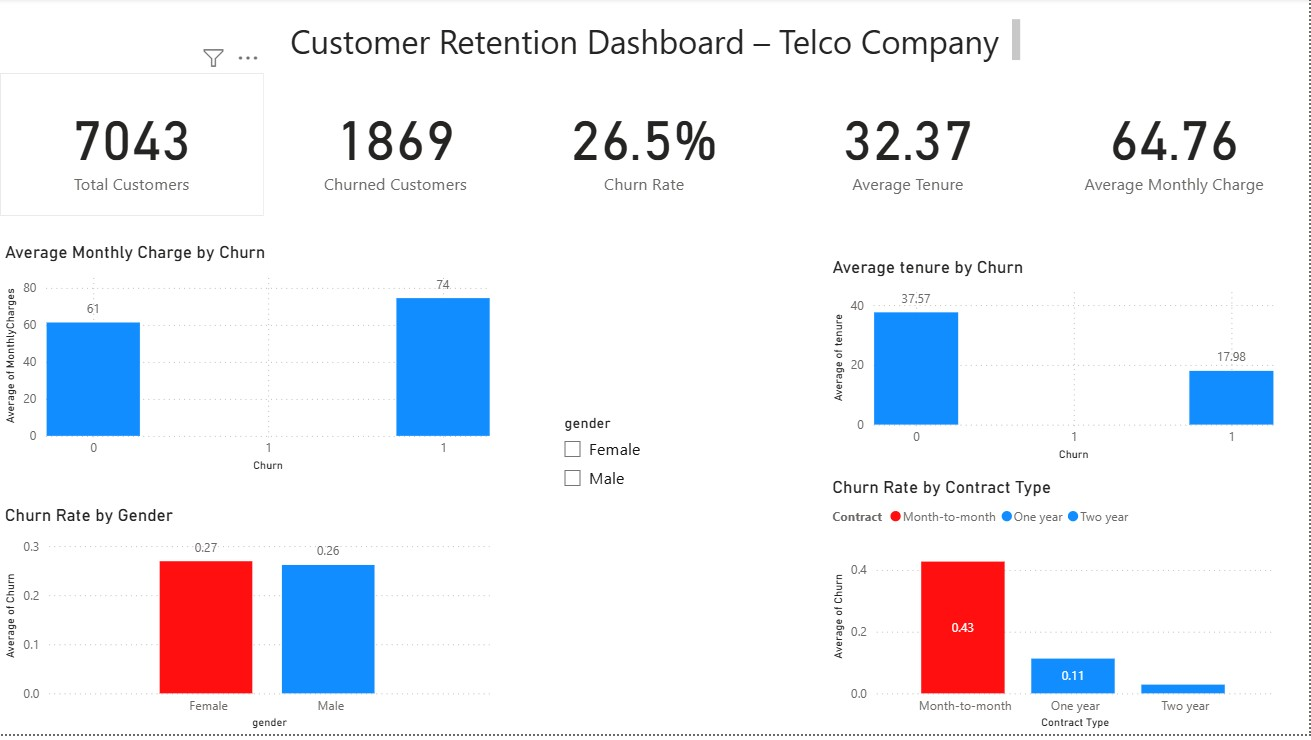

The page's visual inventory and layout, read from the dashboard file:
{"tool":"powerbi","page":{"name":"Page 1","canvas":[1280,720],"ordinal":0},"visuals":[{"type":"card","fields":{"Values":["Customer_Data.Total Customers"]},"box":[0,73.4,258,140],"z":0},{"type":"card","fields":{"Values":["Customer_Data.Churned Customers"]},"box":[258,73.4,258,140],"z":1000},{"type":"card","fields":{"Values":["Customer_Data.Churn Rate"]},"box":[500.9,73.4,258,140],"z":2000},{"type":"card","fields":{"Values":["Customer_Data.Average Tenure"]},"box":[758.8,73.4,258,140],"z":3000},{"type":"card","fields":{"Values":["Customer_Data.Average Monthly Charge"]},"box":[1017.2,73.6,262.9,139.4],"z":4000},{"type":"columnChart","title":"Churn Rate by Gender","fields":{"Category":["Customer_Data.gender"],"Y":["Avg(Customer_Data.Churn)"]},"box":[0,495.2,484.2,225],"z":5000},{"type":"columnChart","title":"Churn Rate by Contract Type","fields":{"Category":["Customer_Data.Contract"],"Y":["Avg(Customer_Data.Churn)"],"Series":["Customer_Data.Contract"]},"box":[809.5,468.3,441.4,251.9],"z":6000},{"type":"columnChart","title":"Average Monthly Charge by Churn","fields":{"Y":["Avg(Customer_Data.MonthlyCharges)"],"Category":["Customer_Data.Churn"]},"box":[0,238.5,484.2,229.9],"z":7000},{"type":"columnChart","title":"Average tenure by Churn","fields":{"Y":["Avg(Customer_Data.tenure)"],"Category":["Customer_Data.Churn"]},"box":[809.5,253.1,441.4,204.2],"z":8000},{"type":"slicer","fields":{"Values":["Customer_Data.gender"]},"box":[539.3,402.3,201.8,270.2],"z":9000},{"type":"textbox","box":[278.6,15.7,724.3,58.6],"z":10000}]}

Visuals, with their boxes in screenshot pixels (x1, y1, x2, y2), scaled from the page's 1280x720 canvas onto the 1311x740 screenshot:
card - Customer_Data.Total Customers: locate(0, 75, 264, 219)
card - Customer_Data.Churned Customers: locate(264, 75, 528, 219)
card - Customer_Data.Churn Rate: locate(513, 75, 777, 219)
card - Customer_Data.Average Tenure: locate(777, 75, 1041, 219)
card - Customer_Data.Average Monthly Charge: locate(1042, 76, 1310, 219)
"Churn Rate by Gender" columnChart: locate(0, 509, 496, 739)
"Churn Rate by Contract Type" columnChart: locate(829, 481, 1281, 739)
"Average Monthly Charge by Churn" columnChart: locate(0, 245, 496, 481)
"Average tenure by Churn" columnChart: locate(829, 260, 1281, 470)
slicer - Customer_Data.gender: locate(552, 413, 759, 691)
textbox: locate(285, 16, 1027, 76)
